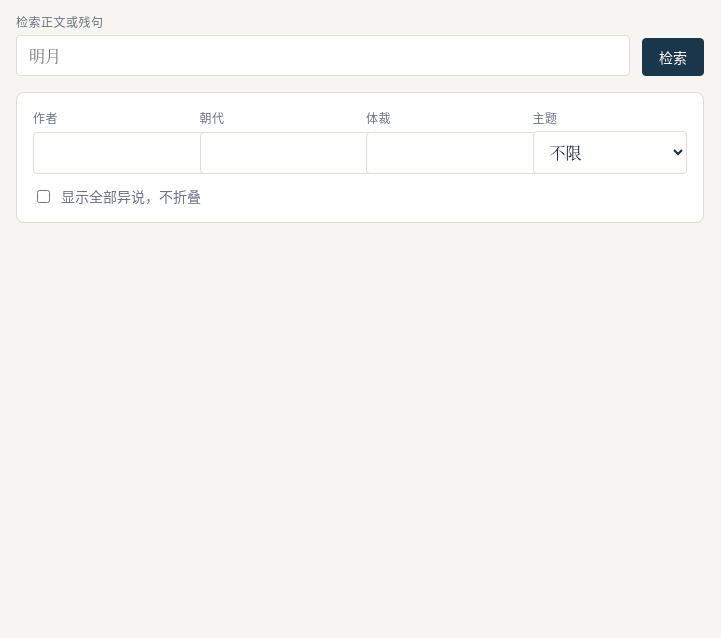
页内过滤与它必须说出口的限制 › 检索后就显示「只在本页过滤」的说明
Type "月" into the search field with test id "search-input" at (323, 56), box [16, 35, 630, 76]
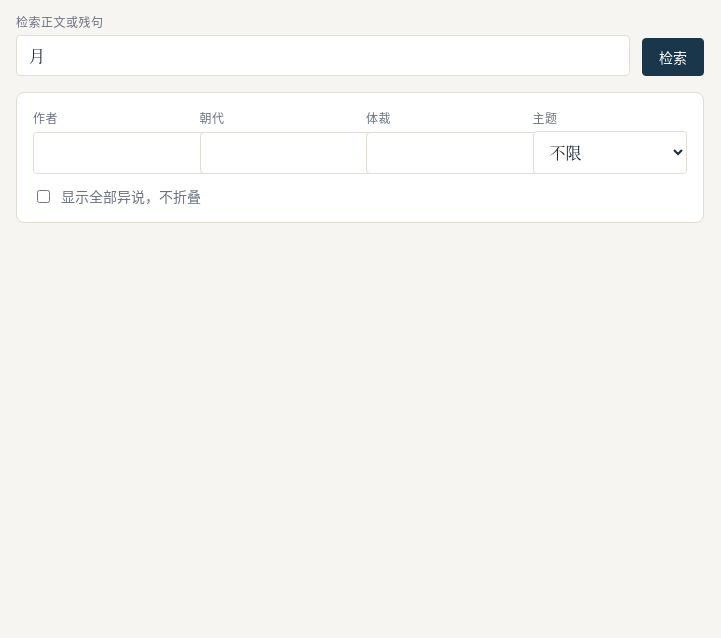
Click the button with test id "search-submit" at (673, 57), box [642, 38, 704, 76]
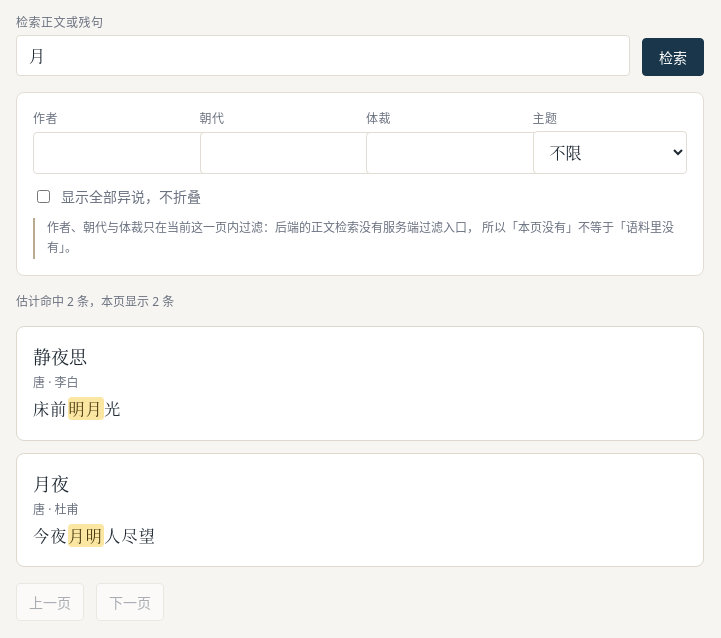
Result: the text with test id "page-scope-note" shows "当前这一页" at [47, 219, 674, 256]
